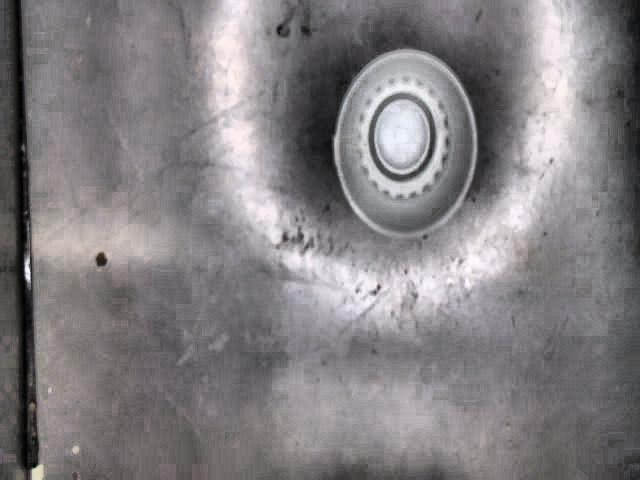Plastic: (332, 47, 478, 239)
